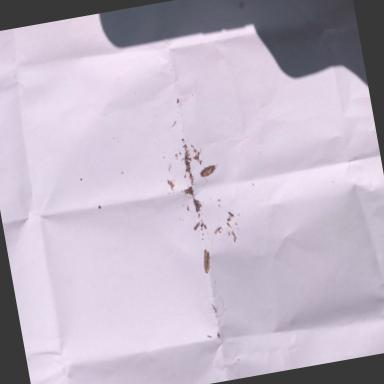pbw: (198, 162, 220, 183), (199, 248, 214, 274)
